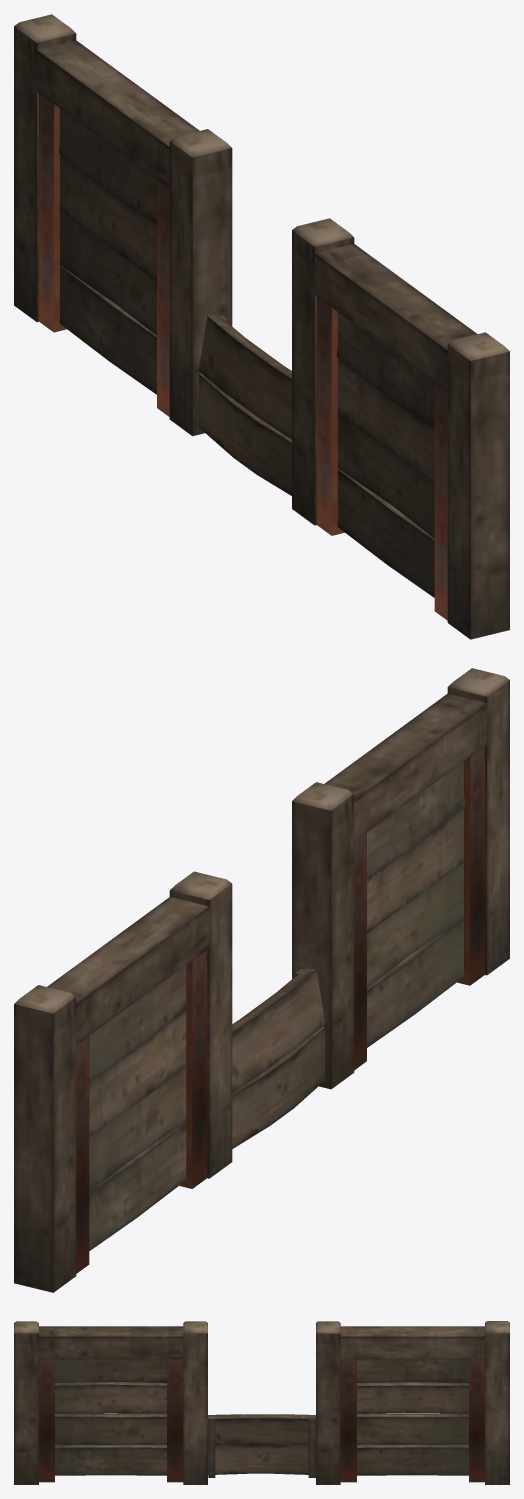
Rendered from wall.low.canon.wood.glb.
3 views of the same model, one above another, from view 1: azimuth 30°, elevation 25°; view 2: azimuth 150°, elevation 25°; view 3: azimuth 270°, elevation 25° (orthographic). The views are drawn at different scales.
Visible parts, largest first — view 1: m_boat_low_wall_canon_LOD0; view 2: m_boat_low_wall_canon_LOD0; view 3: m_boat_low_wall_canon_LOD0.
Part boxes in pixels (x1=…): m_boat_low_wall_canon_LOD0: x1=14, y1=14, x2=509, y2=639; m_boat_low_wall_canon_LOD0: x1=14, y1=668, x2=509, y2=1292; m_boat_low_wall_canon_LOD0: x1=14, y1=1321, x2=509, y2=1484.
Bounding box in the file's own units: 0.1505 × 1.03 × 3.
Materials: 1 (1 with a texture image).
